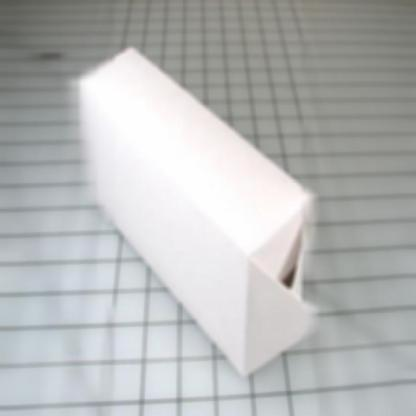-: (66, 45, 348, 365)
